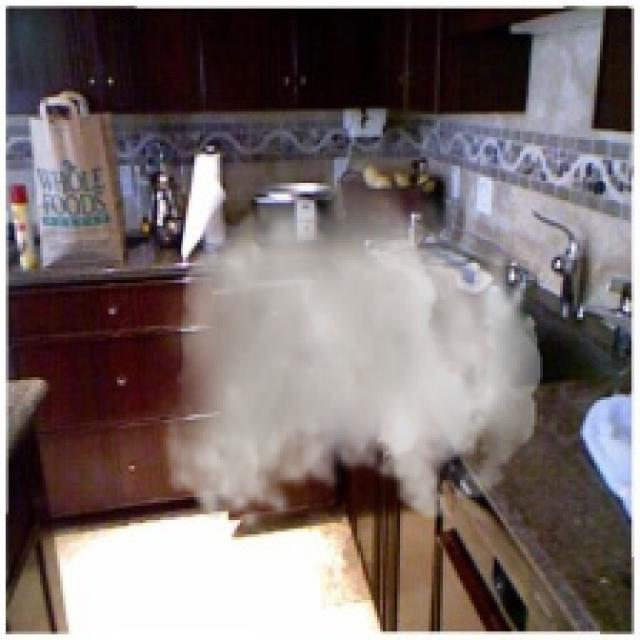smoke: (163, 143, 543, 531)
